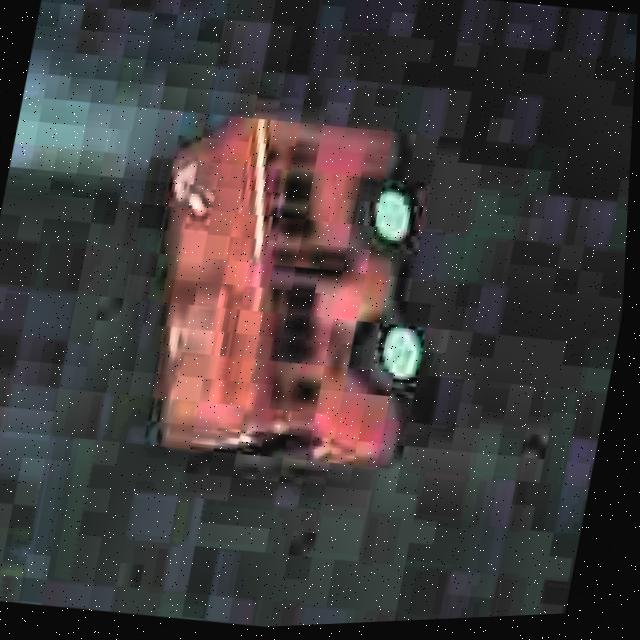bus: (107, 88, 479, 503)
